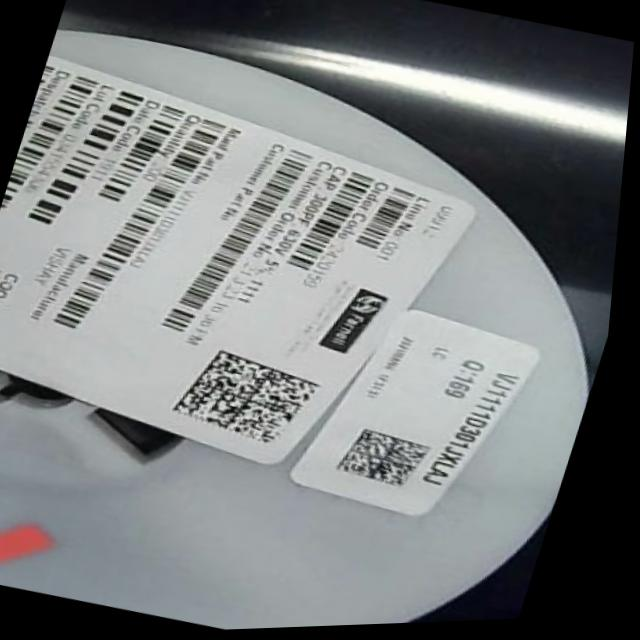datamatrix: (172, 340, 343, 460), (337, 423, 453, 503)
